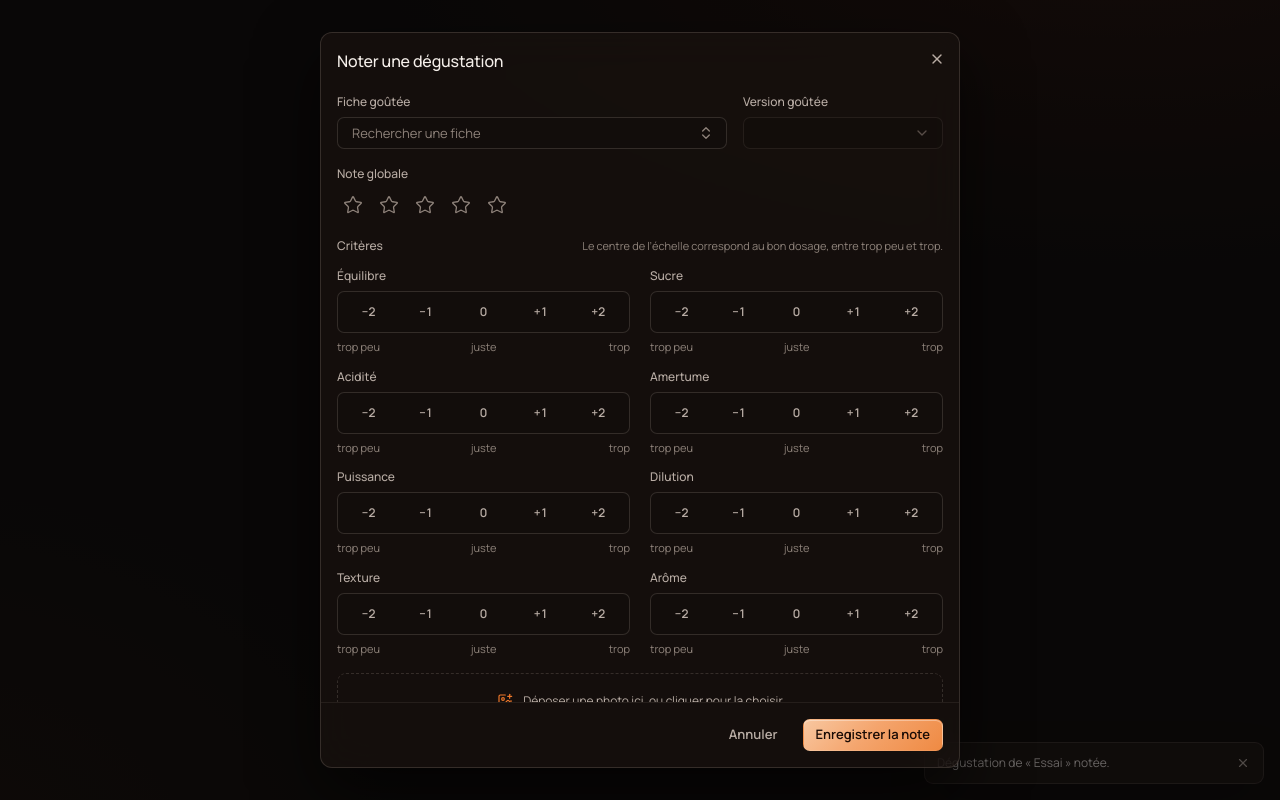
TastingDialog › asks for the recipe before saving
This screenshot has width=1280, height=800.
Click the button "Enregistrer la note" at (873, 735), box [802,719,943,751]
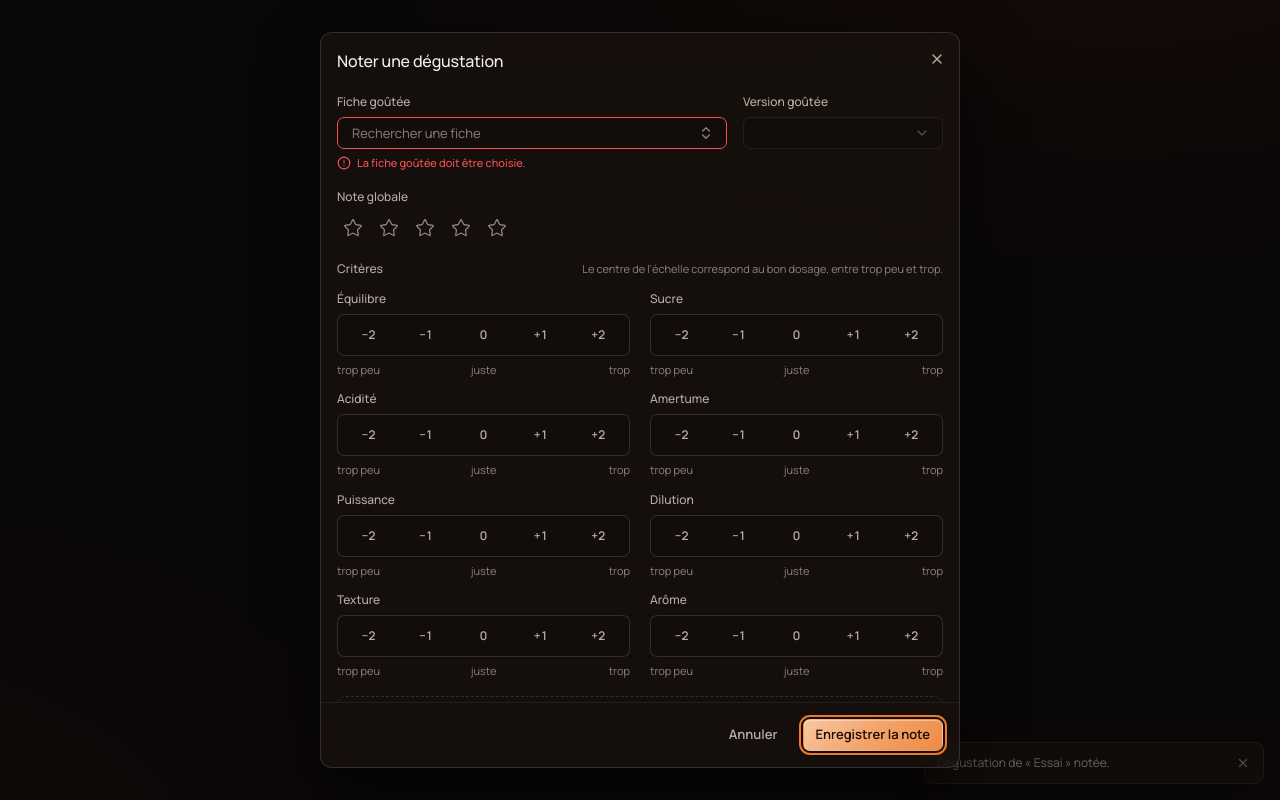
Result: the text "La fiche goûtée doit être choisie." is shown at [357,155,526,172]
